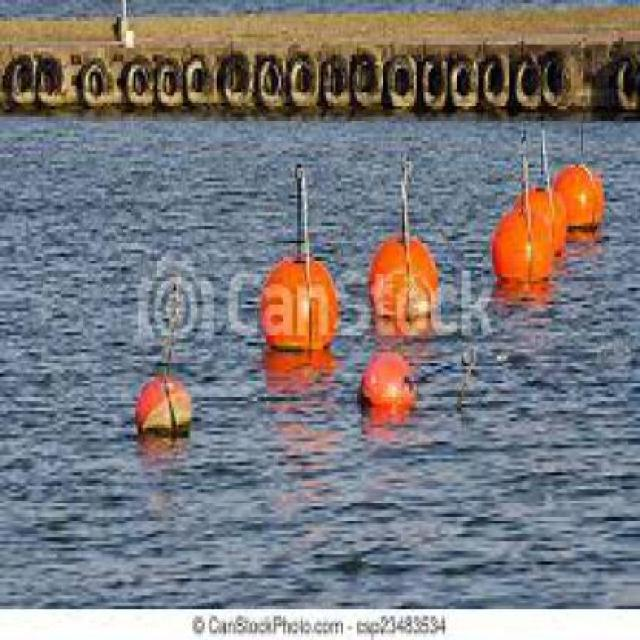buoy: (137, 254, 211, 463), (496, 124, 551, 303), (555, 100, 610, 234), (351, 347, 429, 432)
